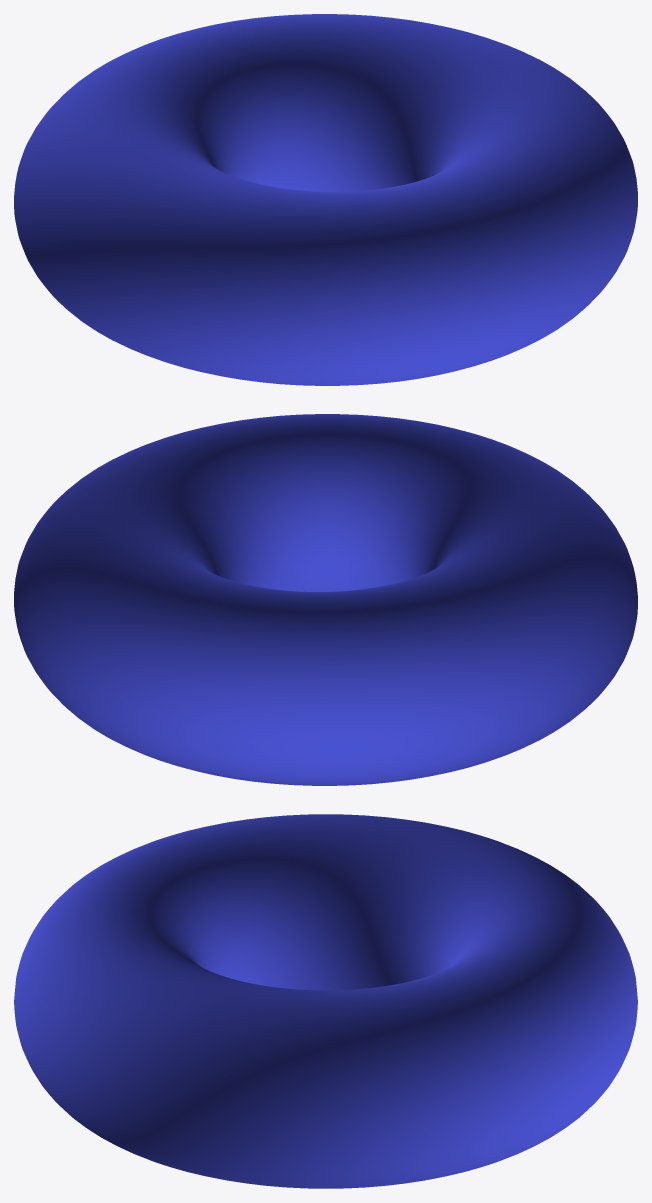
The model's file is Toroide1.obj.
3 renders of one model, top to bottom at view 1: azimuth 30°, elevation 25°; view 2: azimuth 150°, elevation 25°; view 3: azimuth 270°, elevation 25°, orthographic.
Parts seen in each view (by area): view 1: mesh_id40; view 2: mesh_id40; view 3: mesh_id40.
Part boxes in pixels (left/top/right/bottom): mesh_id40: left=14, top=14, right=637, bottom=385; mesh_id40: left=14, top=414, right=637, bottom=785; mesh_id40: left=14, top=814, right=637, bottom=1188.
Bounding box in the file's own units: 0.3404 × 0.1048 × 0.3362.
Materials: 1 (1 with a texture image).
